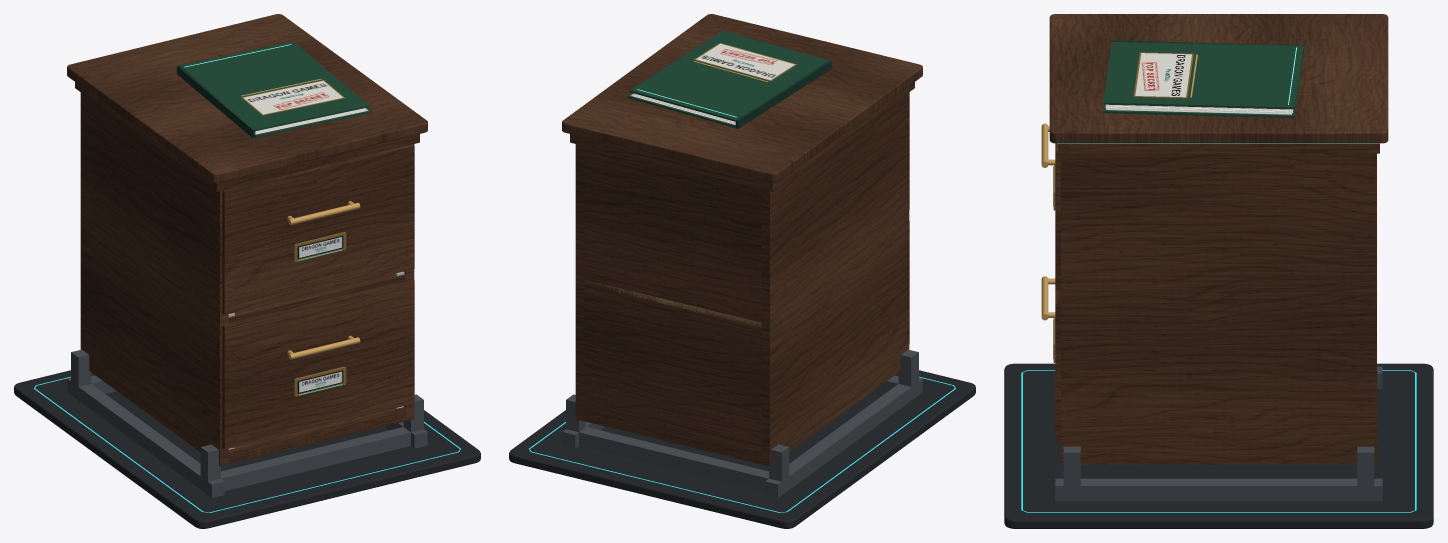
File: obj-gaveteiro-gabinete.glb
3 views of the same model, side by side, from view 1: azimuth 30°, elevation 25°; view 2: azimuth 150°, elevation 25°; view 3: azimuth 270°, elevation 25° (orthographic). The views are drawn at different scales.
Visible parts, largest first — view 1: gaveteiro_lateral_esq, gaveteiro_tampo, gaveta_chaves_frente, gaveta_agenda_frente, base_peca, pasta_capa_capa, base_viga_frente, base_patim_esq, gaveteiro_travessa_baixo, gaveteiro_borda_frente, pasta_capa_janela, gaveteiro_travessa_frente (+6 smaller); view 2: gaveteiro_traseira, gaveteiro_lateral_esq, gaveteiro_tampo, base_peca, pasta_capa_capa, base_viga_tras, base_patim_esq, gaveteiro_lateral_dir, gaveteiro_borda_tras, pasta_capa_janela, gaveteiro_fundo, pasta_lombada (+5 smaller); view 3: gaveteiro_lateral_dir, base_peca, gaveteiro_tampo, pasta_capa_capa, base_patim_dir, gaveteiro_borda_dir, pasta_capa_janela, base_peca_linha, gaveta_chaves_frente, pasta_contracapa, gaveta_agenda_frente, base_montante_tras_dir (+1 smaller).
Boxes of the visible parts, x1,y1,x2,y2 form: gaveteiro_lateral_esq: (80, 92, 228, 466); gaveteiro_tampo: (67, 14, 427, 183); gaveta_chaves_frente: (222, 279, 414, 449); gaveta_agenda_frente: (222, 144, 414, 314); base_peca: (14, 370, 480, 528); pasta_capa_capa: (180, 41, 368, 131); base_viga_frente: (221, 427, 410, 491); base_patim_esq: (67, 378, 224, 497); gaveteiro_travessa_baixo: (228, 406, 405, 462); gaveteiro_borda_frente: (212, 134, 419, 191); pasta_capa_janela: (243, 80, 342, 114); gaveteiro_travessa_frente: (228, 274, 405, 323); gaveteiro_traseira: (584, 146, 761, 463); gaveteiro_lateral_esq: (761, 92, 909, 466); gaveteiro_tampo: (562, 14, 922, 183); base_peca: (509, 370, 975, 528); pasta_capa_capa: (629, 31, 830, 121); base_viga_tras: (579, 427, 768, 491); base_patim_esq: (765, 378, 922, 497); gaveteiro_lateral_dir: (575, 144, 584, 420); gaveteiro_borda_tras: (570, 134, 777, 191); pasta_capa_janela: (696, 43, 794, 80); gaveteiro_fundo: (584, 417, 761, 464); pasta_lombada: (735, 60, 831, 128); gaveteiro_lateral_dir: (1061, 153, 1376, 464); base_peca: (1004, 363, 1433, 528); gaveteiro_tampo: (1049, 14, 1388, 143); pasta_capa_capa: (1103, 41, 1303, 109); base_patim_dir: (1055, 478, 1382, 501); gaveteiro_borda_dir: (1069, 143, 1368, 153); pasta_capa_janela: (1135, 53, 1191, 97); base_peca_linha: (1021, 370, 1416, 512); gaveta_chaves_frente: (1055, 290, 1060, 442); pasta_contracapa: (1103, 54, 1303, 117); gaveta_agenda_frente: (1055, 143, 1060, 290); base_montante_tras_dir: (1357, 446, 1374, 493).
Size of the model in its own units: 0.66 by 0.7571 by 0.76.
Materials: 27 (7 with a texture image).
